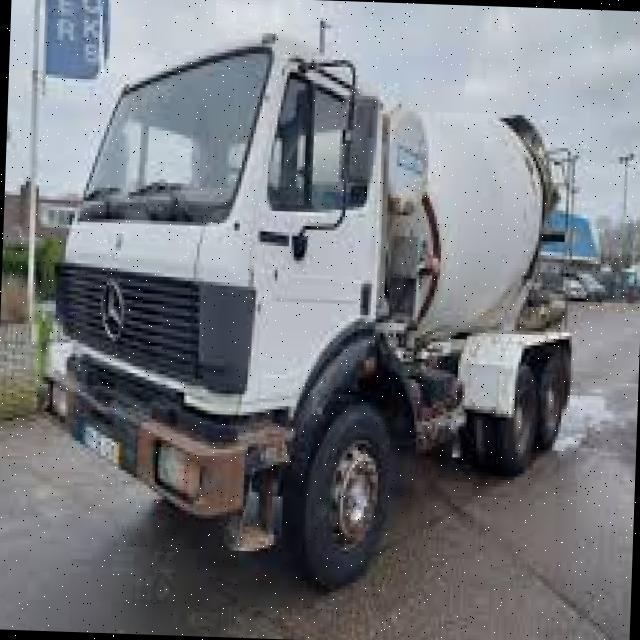Mixer Truck: (29, 16, 586, 604)
